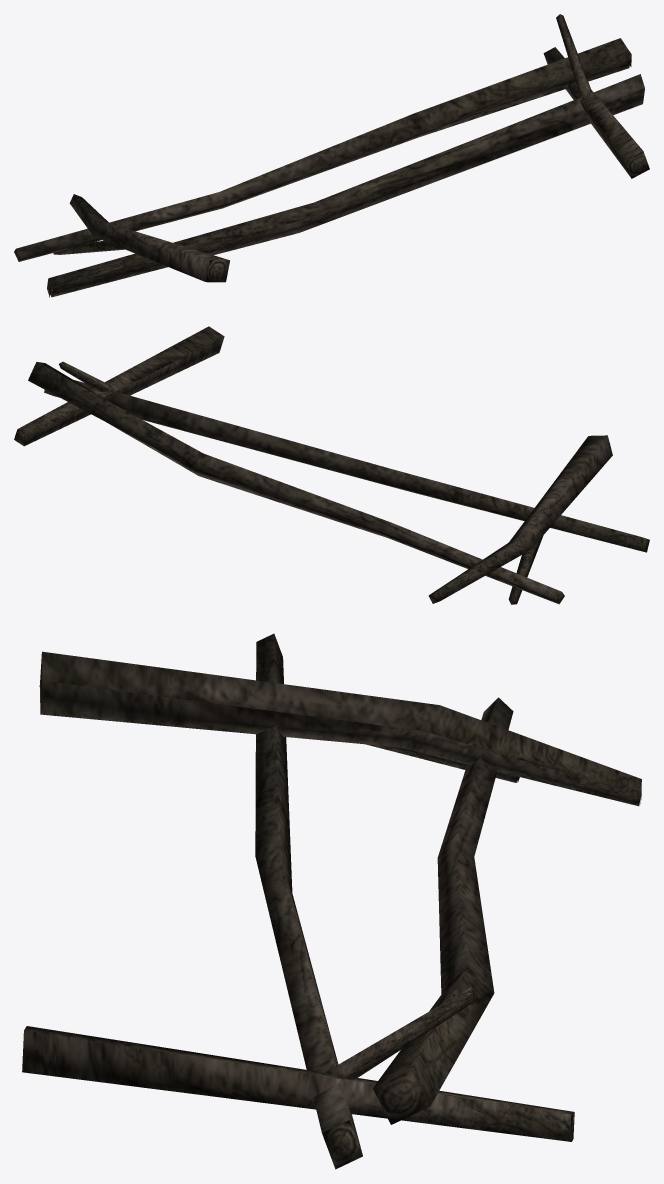
Rendered from MEP_Fence_02.fbx.
The picture shows the model from 3 angles, top to bottom: view 1: azimuth 30°, elevation 25°; view 2: azimuth 150°, elevation 25°; view 3: azimuth 270°, elevation 25°; orthographic projection. The views are drawn at different scales.
Parts seen in each view (by area): view 1: MEP_Fence_02; view 2: MEP_Fence_02; view 3: MEP_Fence_02.
Part boxes in pixels (bbox=[...]): MEP_Fence_02: bbox=[14, 14, 649, 297]; MEP_Fence_02: bbox=[14, 326, 649, 604]; MEP_Fence_02: bbox=[22, 633, 641, 1169].
Bounding box in the file's own units: 3.45 × 0.6991 × 1.6.
